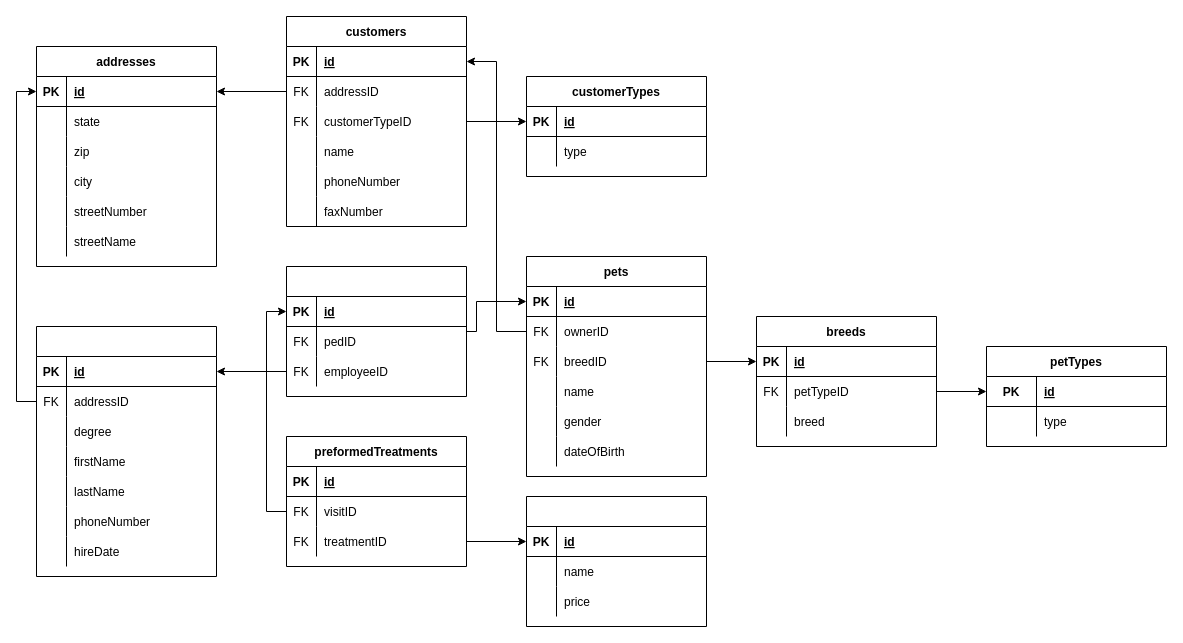
Image size: 1183x643. Some labels were removed from this diagram. Each missing label, with the box of its shape:
employees: (36, 326, 216, 576)
treatments: (526, 496, 706, 626)
visits: (286, 266, 466, 396)
